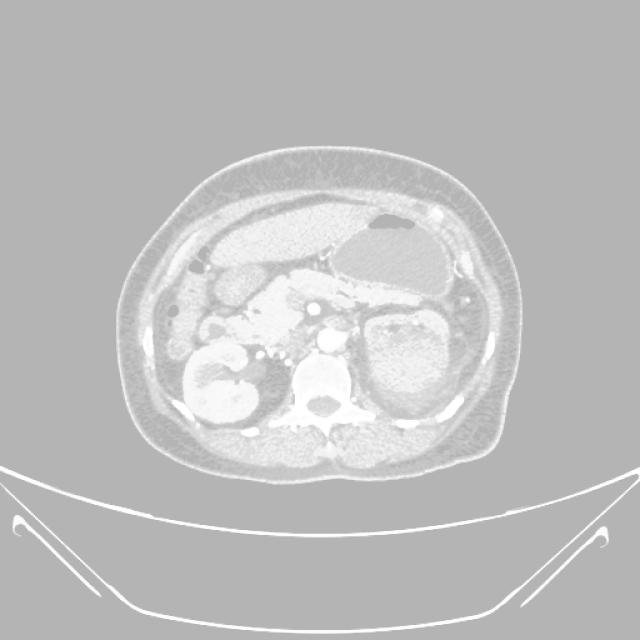TUMOR: (90, 206, 547, 364)
